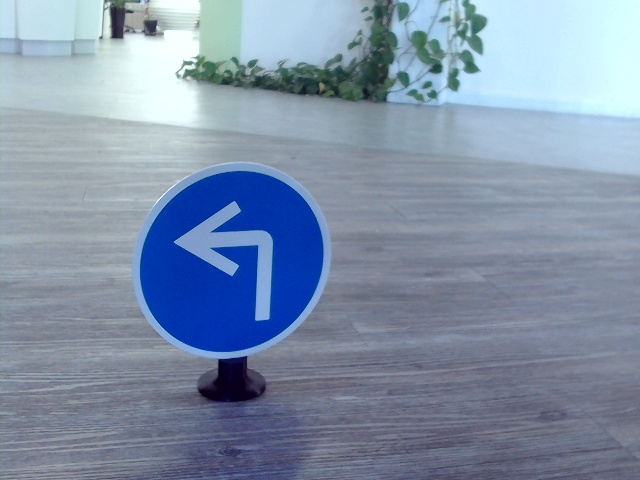turn_left: (170, 199, 282, 321)
